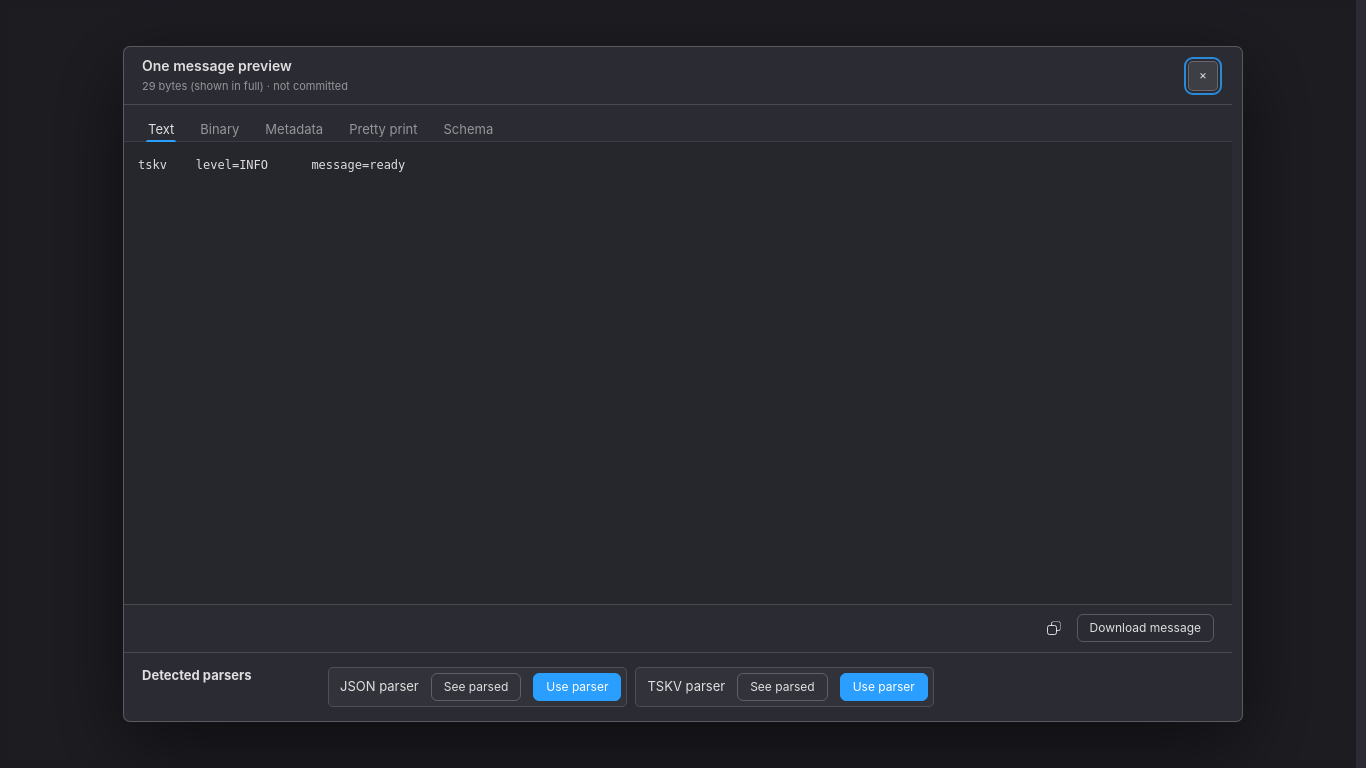
message preview dialog › groups equivalent pretty-print previews and lets the user choose the parser
Click the tab "Pretty print".
click(383, 127)  # box [337,113,430,141]
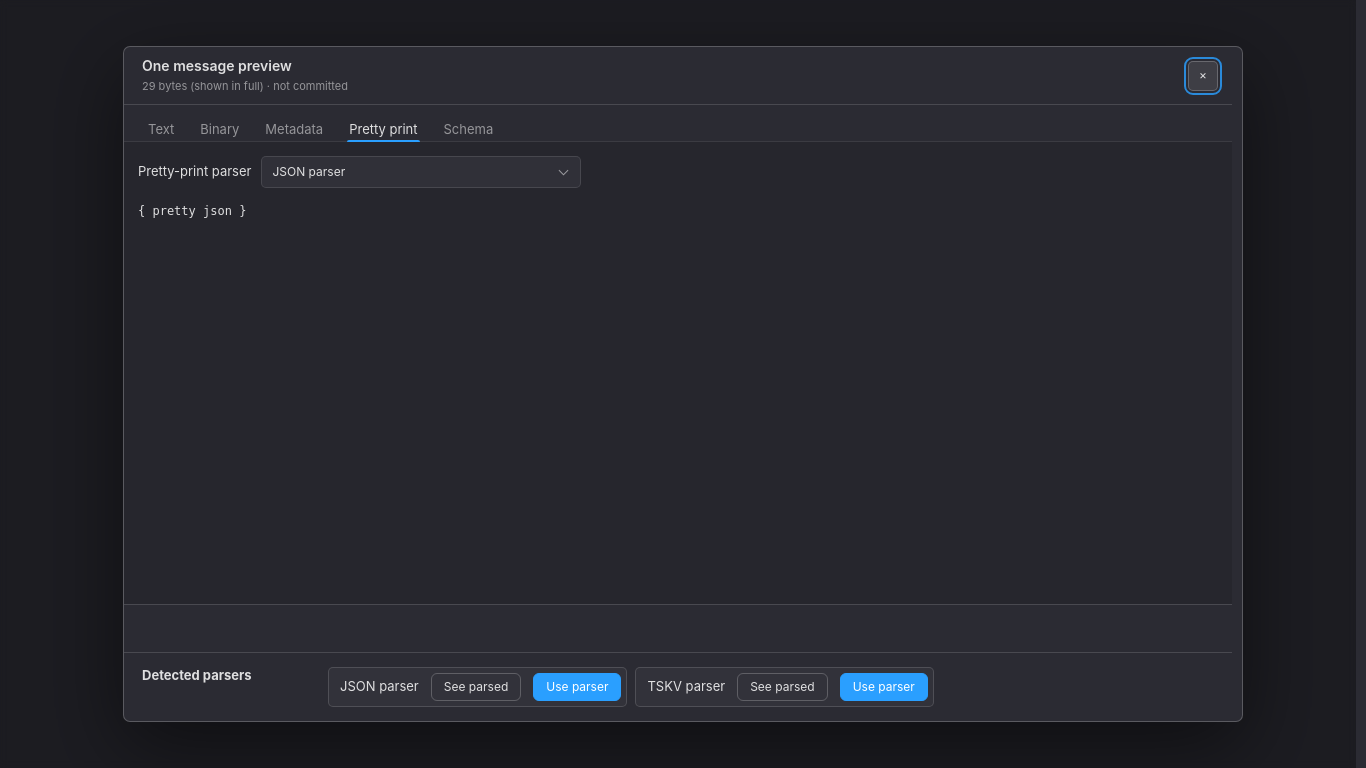
Result: the text "{ pretty json }" is shown at [138,204,246,218]
Click the button "JSON parser".
click(309, 172)  # box [261,156,581,188]
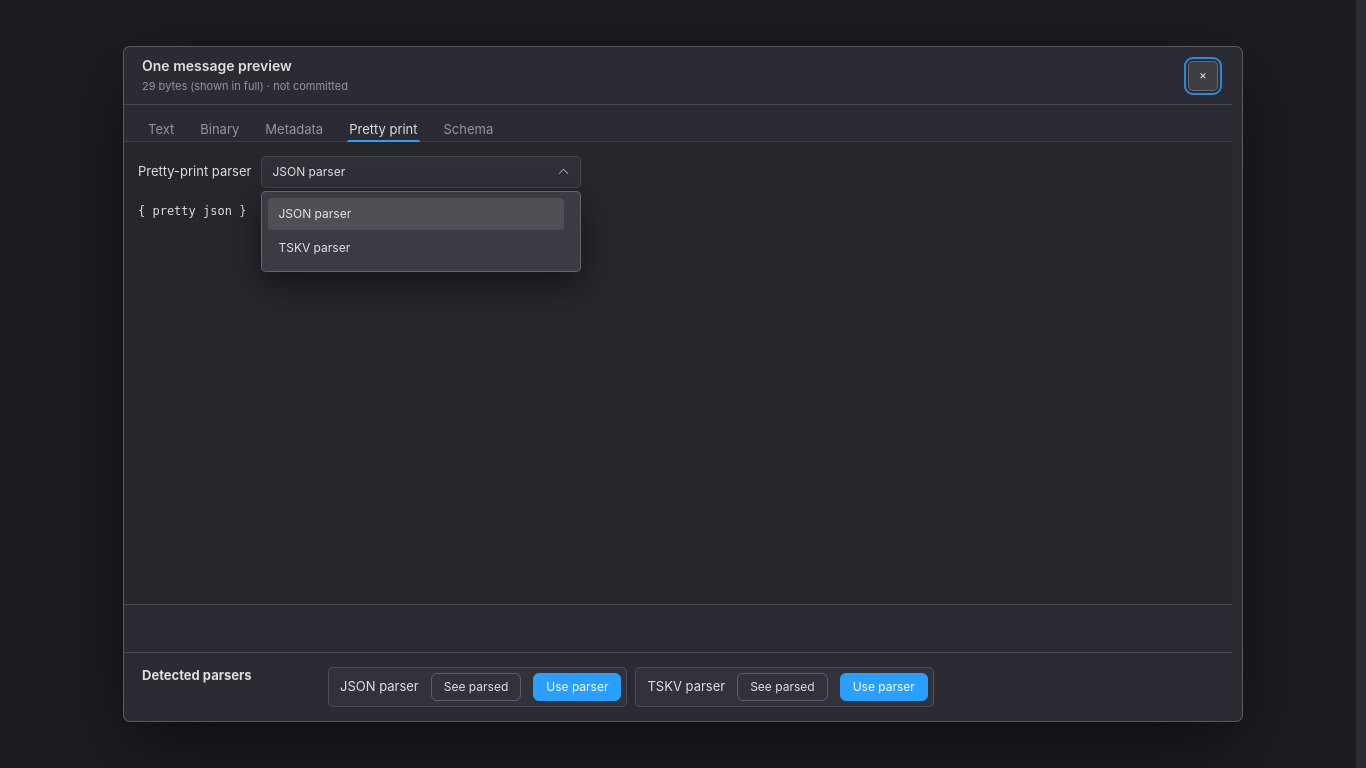
Click the option "TSKV parser".
click(282, 248)  # box [268,232,564,265]
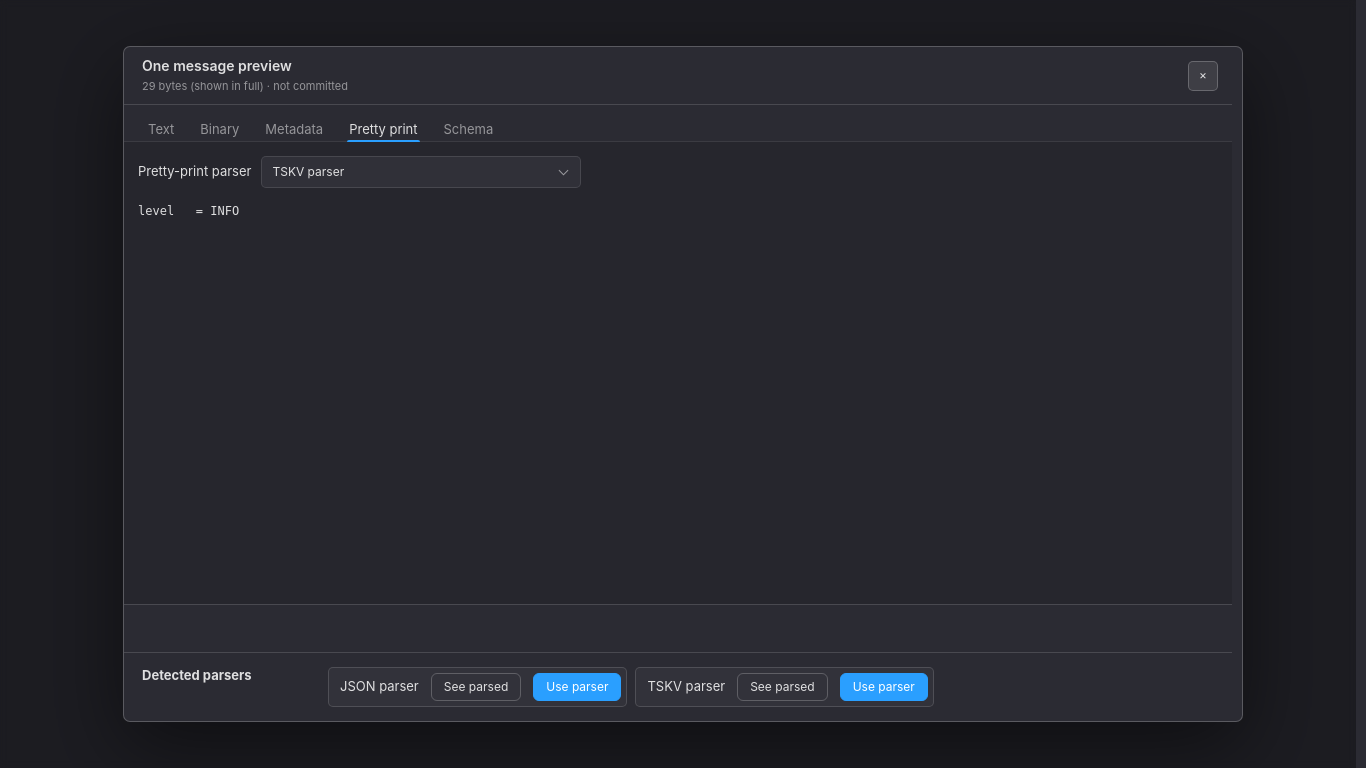
Result: the text "level = INFO" is shown at [138,204,239,218]
Result: the text "{ pretty json }" is gone
